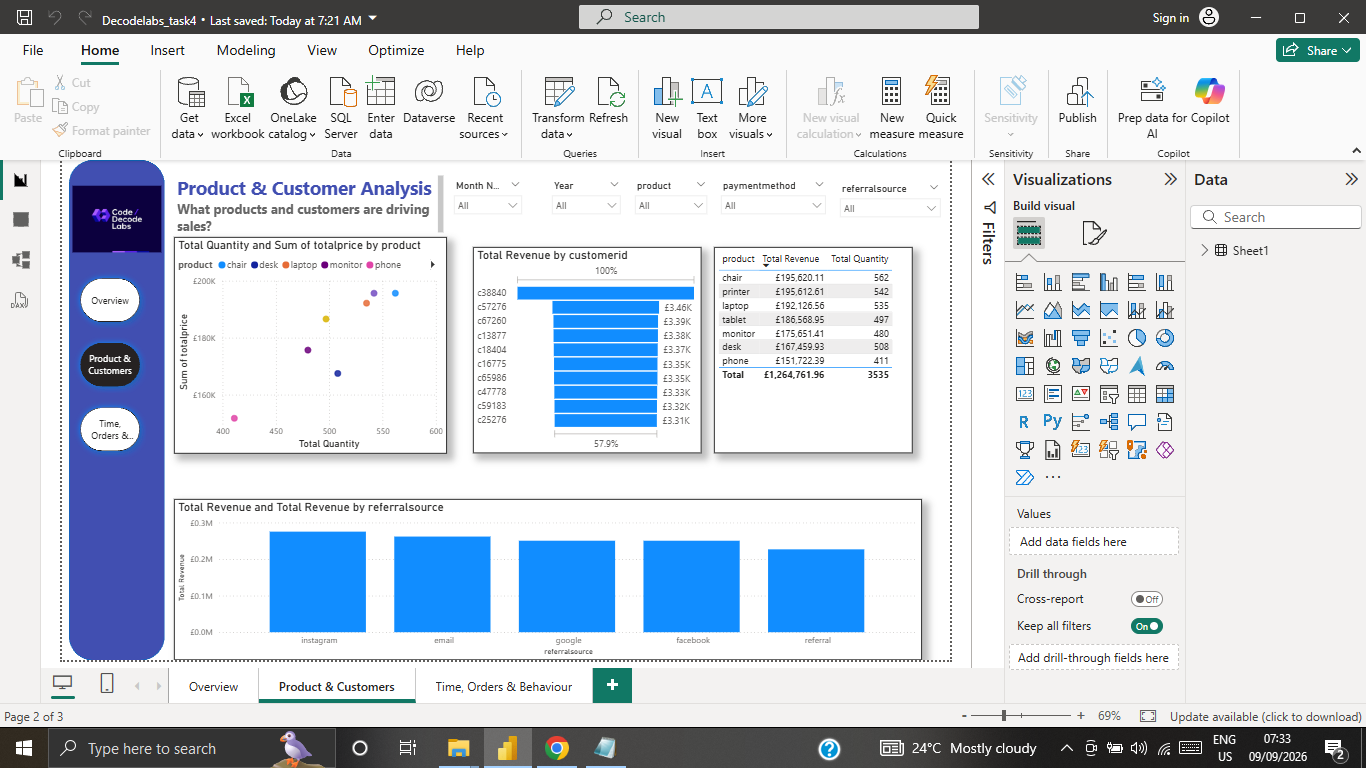

The dashboard page shown, as its layout file describes it:
{"tool":"powerbi","page":{"name":"Product & Customers","canvas":[1280,720],"ordinal":1},"visuals":[{"type":"textbox","box":[161.3,16.8,393.1,94.1],"z":0},{"type":"shape","box":[10.1,0,137.7,720.6],"z":1000},{"type":"slicer","fields":{"Values":["Sheet1.Month Name"]},"box":[554.3,23.5,117.6,73.9],"z":2000},{"type":"slicer","fields":{"Values":["Sheet1.Year"]},"box":[695.4,23.5,119.3,73.9],"z":3000},{"type":"slicer","fields":{"Values":["Sheet1.product"]},"box":[814.7,23.5,124.3,63.8],"z":4000},{"type":"slicer","fields":{"Values":["Sheet1.paymentmethod"]},"box":[939,23.5,171.3,75.6],"z":5000},{"type":"slicer","fields":{"Values":["Sheet1.referralsource"]},"box":[1110.3,26.9,164.6,60.5],"z":6000},{"type":"scatterChart","fields":{"X":["Sheet1.Total Quantity"],"Series":["Sheet1.product"],"Y":["Sheet1.totalprice"]},"box":[161.3,110.9,393.1,312.4],"z":7000},{"type":"funnel","fields":{"Y":["Sheet1.Total Revenue"],"Category":["Sheet1.customerid"]},"box":[591.3,126,329.2,297.3],"z":8000},{"type":"columnChart","fields":{"Category":["Sheet1.referralsource"],"Y":["Sheet1.Total Revenue"]},"box":[161.3,488.8,1076.7,231.8],"z":9000},{"type":"image","box":[10.1,23.5,137.7,124.3],"z":10000},{"type":"tableEx","fields":{"Values":["Sheet1.product","Sheet1.Total Revenue","Sheet1.Total Quantity"]},"box":[939,126,285.6,297.3],"z":11000},{"type":"pageNavigator","box":[16.8,161.3,104.1,267.1],"z":12000}]}

Visuals, with their boxes on the page's 1280x720 design canvas (x1, y1, x2, y2). These are canvas units, not pixel positions in the 1366x768 screenshot, which may show the page scaled, cropped or inside an application window:
textbox: (left=161, top=17, right=554, bottom=111)
shape: (left=10, top=0, right=148, bottom=721)
slicer - Sheet1.Month Name: (left=554, top=24, right=672, bottom=97)
slicer - Sheet1.Year: (left=695, top=24, right=815, bottom=97)
slicer - Sheet1.product: (left=815, top=24, right=939, bottom=87)
slicer - Sheet1.paymentmethod: (left=939, top=24, right=1110, bottom=99)
slicer - Sheet1.referralsource: (left=1110, top=27, right=1275, bottom=87)
scatterChart - Sheet1.Total Quantity x Sheet1.product: (left=161, top=111, right=554, bottom=423)
funnel - Sheet1.Total Revenue x Sheet1.customerid: (left=591, top=126, right=920, bottom=423)
columnChart - Sheet1.referralsource x Sheet1.Total Revenue: (left=161, top=489, right=1238, bottom=721)
image: (left=10, top=24, right=148, bottom=148)
tableEx - Sheet1.product x Sheet1.Total Revenue: (left=939, top=126, right=1225, bottom=423)
pageNavigator: (left=17, top=161, right=121, bottom=428)
